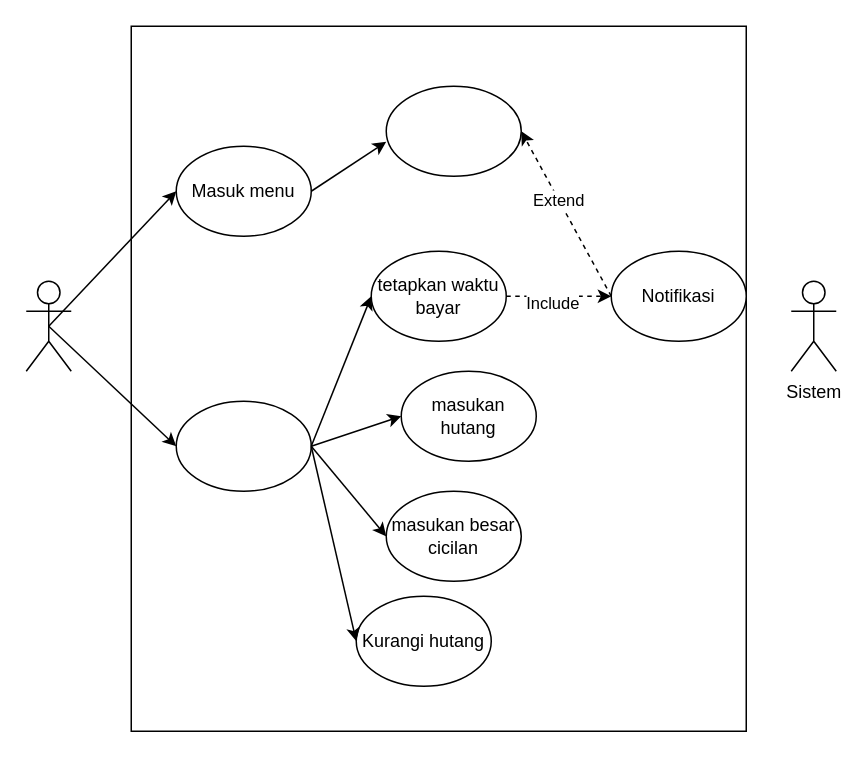
This 867x758 diagram has some shape labels left out. The centre of each missing label's shape, as x and y in pixels:
"Actor" goes at [48,325].
"Input Data" goes at [243,445].
"Pilih Pengguna" goes at [453,130].
